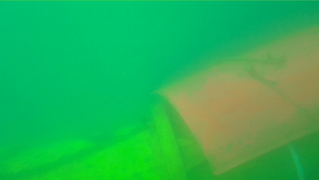leak: (148, 25, 319, 177)
pipe: (1, 100, 319, 180)
